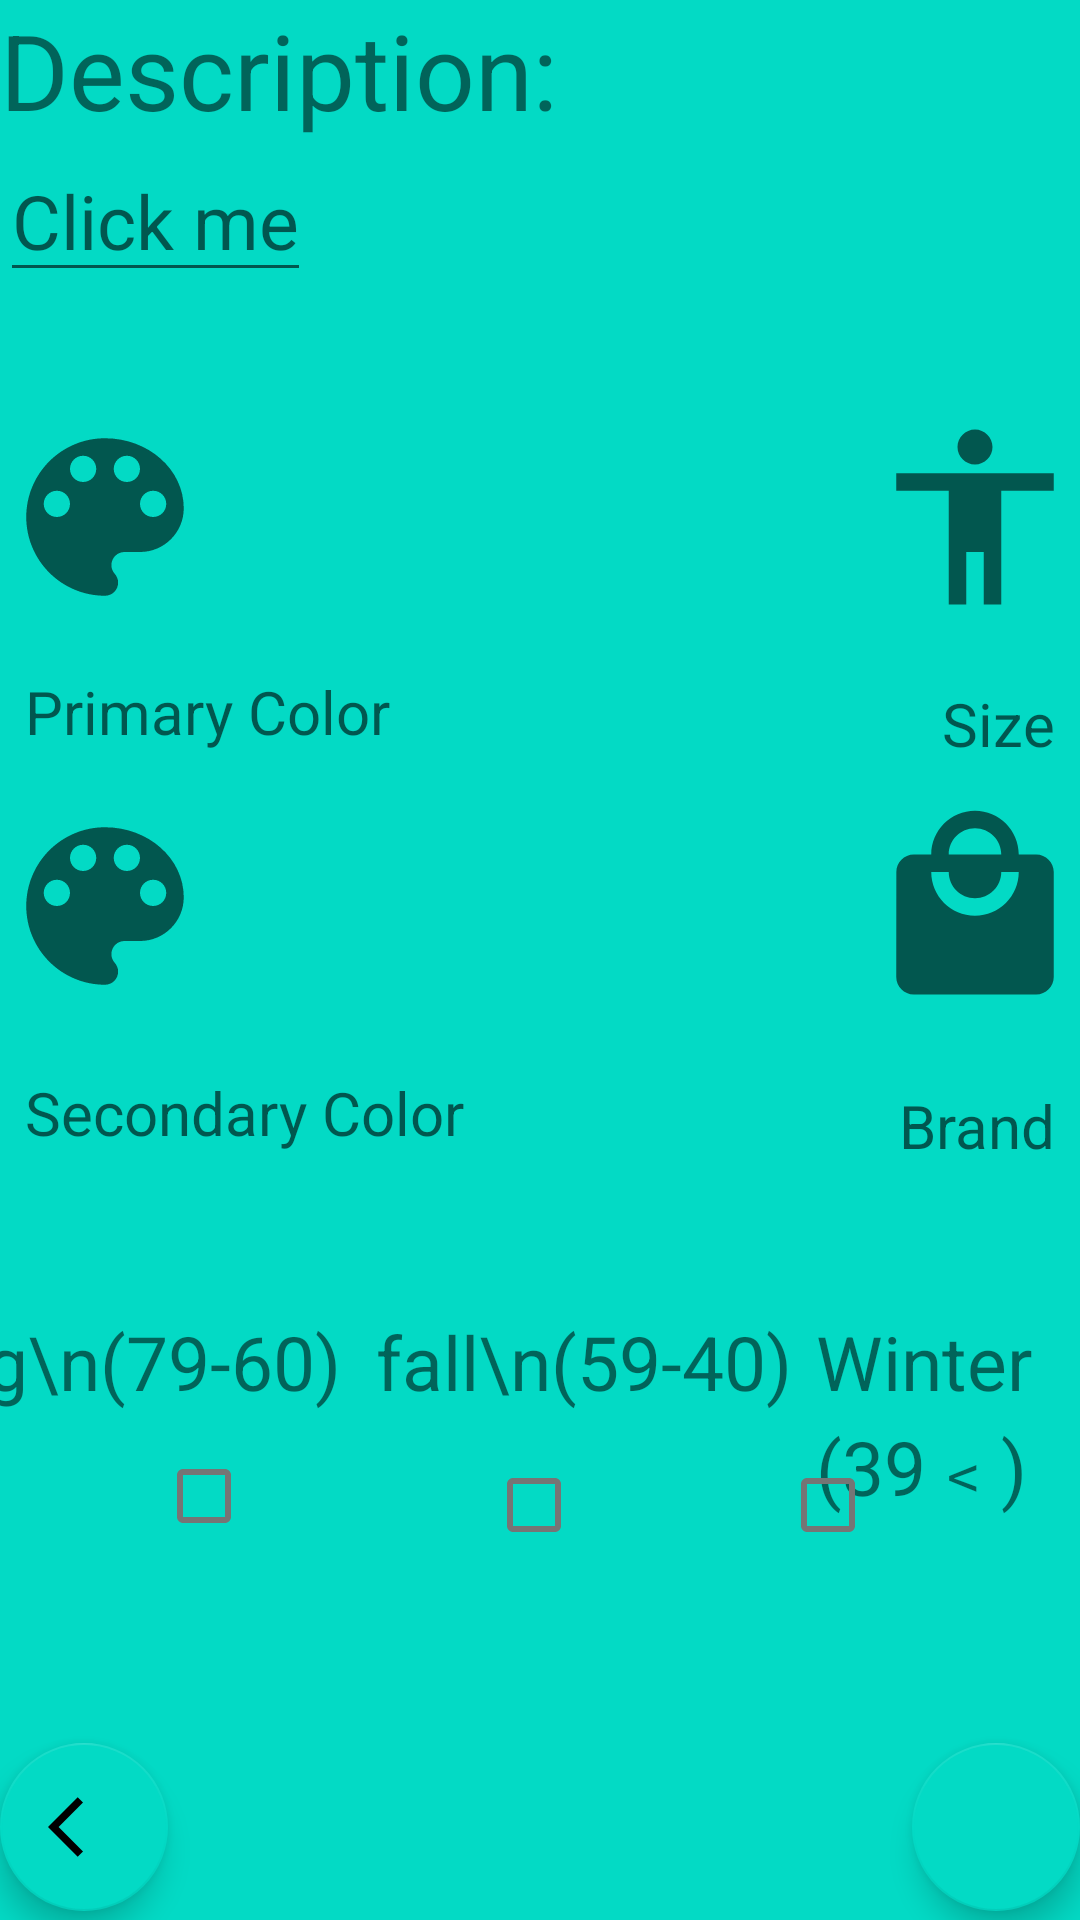

Screen size 1080×1920. Icon name, then its center in pixels as point (x, y):
previous: point (78, 1827)
